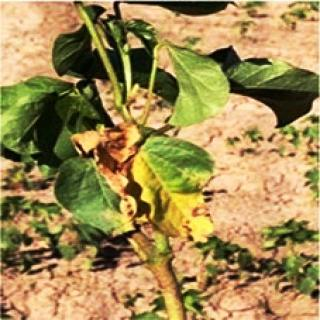wilt: (76, 119, 220, 239)
